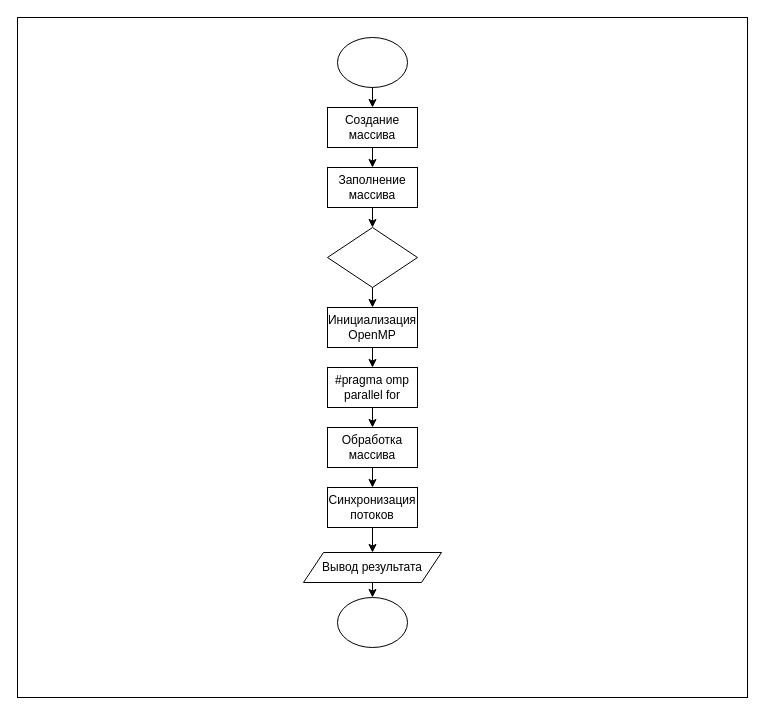
Some shapes in this 765 by 715 pixel diagram are drawn without their labels. Here are the shapes that lost their labels. From the top down, the box of each, then its label:
(336, 36, 408, 88): Начало
(326, 226, 418, 288): Выбор алгоритма
(336, 596, 408, 648): Конец
